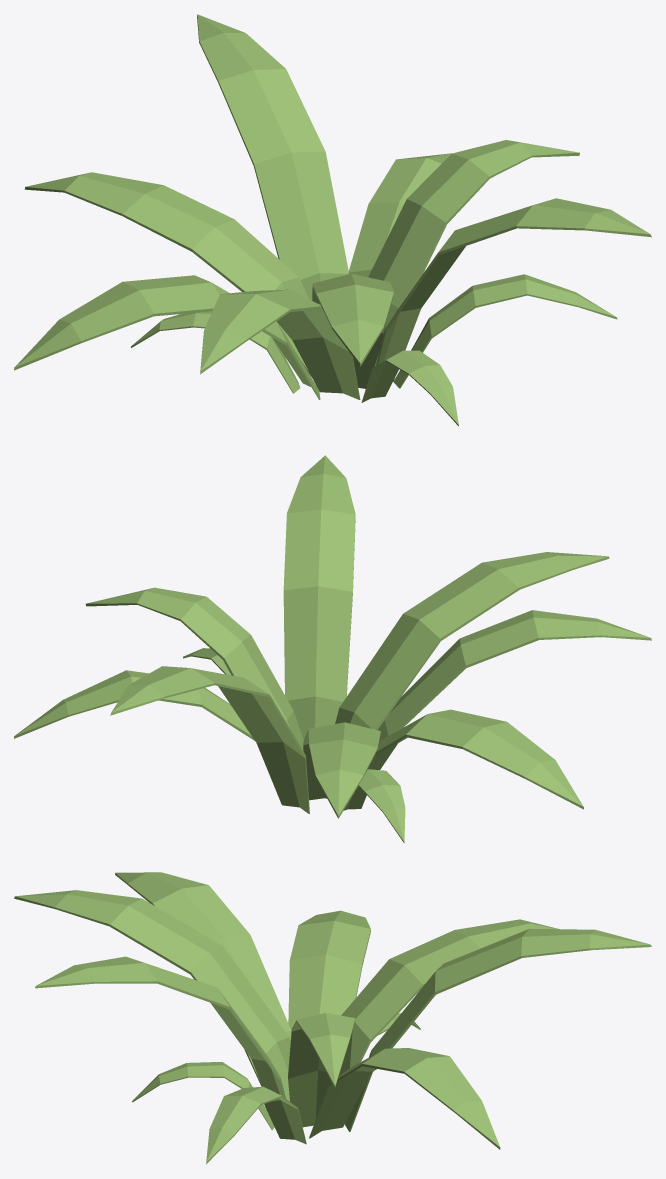
Rendered from bush-1.fbx.
3 renders of one model, top to bottom at view 1: azimuth 30°, elevation 25°; view 2: azimuth 150°, elevation 25°; view 3: azimuth 270°, elevation 25°, orthographic. The views are drawn at different scales.
Visible parts, largest first — view 1: bush; view 2: bush; view 3: bush.
Part boxes in pixels (<box>): bush: <box>14,14,651,425</box>; bush: <box>14,455,651,842</box>; bush: <box>14,872,651,1164</box>.
Size of the model in its own units: 96.48 by 38.55 by 107.
